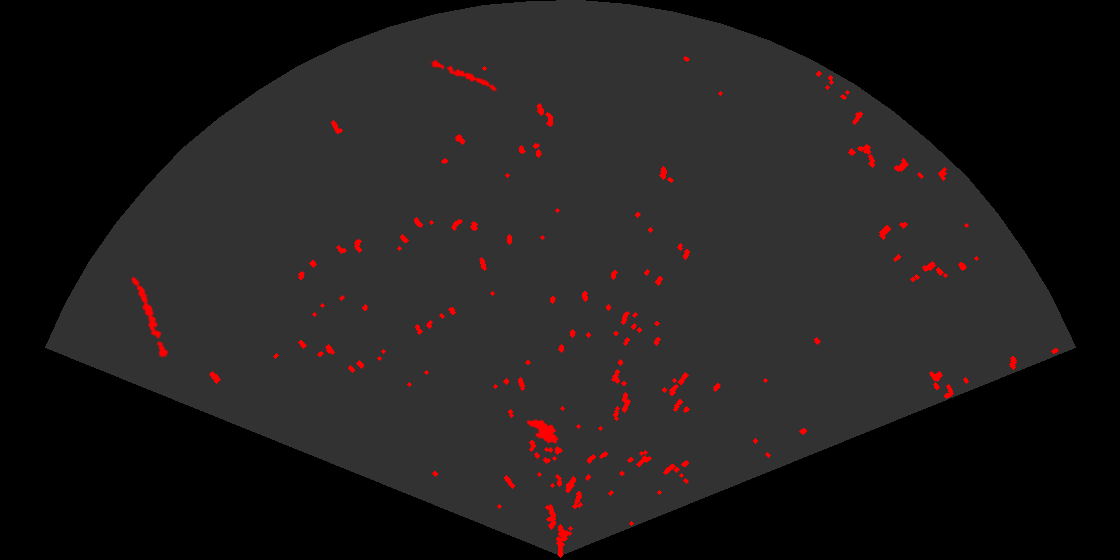AUV: (525, 418, 560, 445)
chain: (129, 275, 170, 360), (428, 58, 499, 93)
